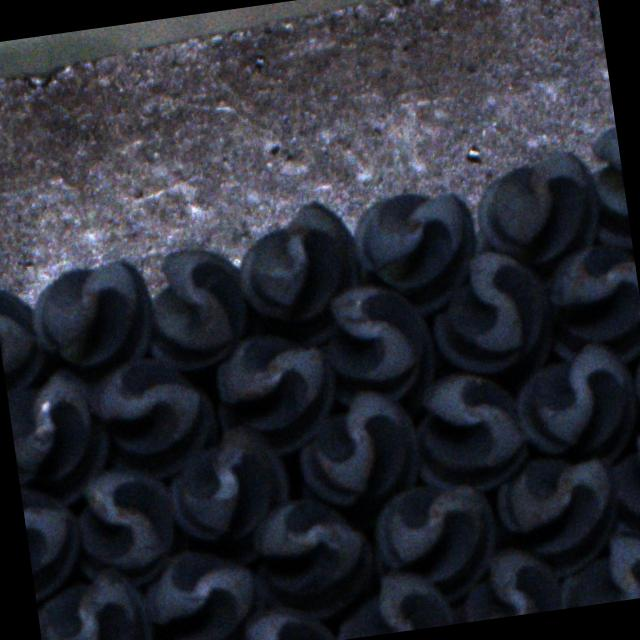tool_b: (230, 195, 370, 355), (423, 242, 558, 398), (164, 418, 298, 574), (346, 183, 489, 324), (314, 278, 444, 430), (292, 385, 428, 529), (368, 474, 505, 611), (88, 350, 225, 486), (246, 489, 382, 625), (507, 337, 640, 475), (208, 326, 342, 460), (491, 450, 623, 586), (23, 256, 158, 384), (471, 147, 604, 276), (404, 367, 530, 500), (5, 362, 116, 508), (137, 242, 256, 376), (65, 460, 182, 590), (537, 238, 640, 371), (139, 541, 272, 640), (327, 563, 457, 640), (33, 562, 156, 640), (444, 542, 558, 624), (19, 476, 86, 599), (550, 527, 640, 609), (603, 424, 640, 566)
